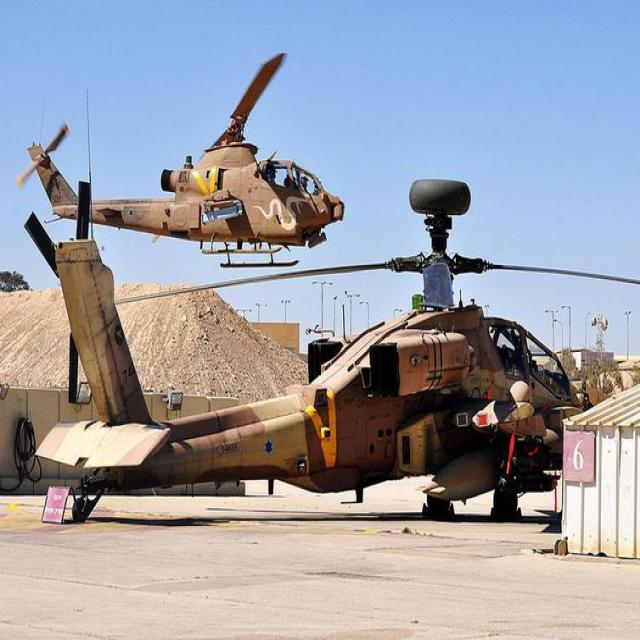MIL_HELO: (12, 166, 640, 527), (26, 39, 354, 272)
